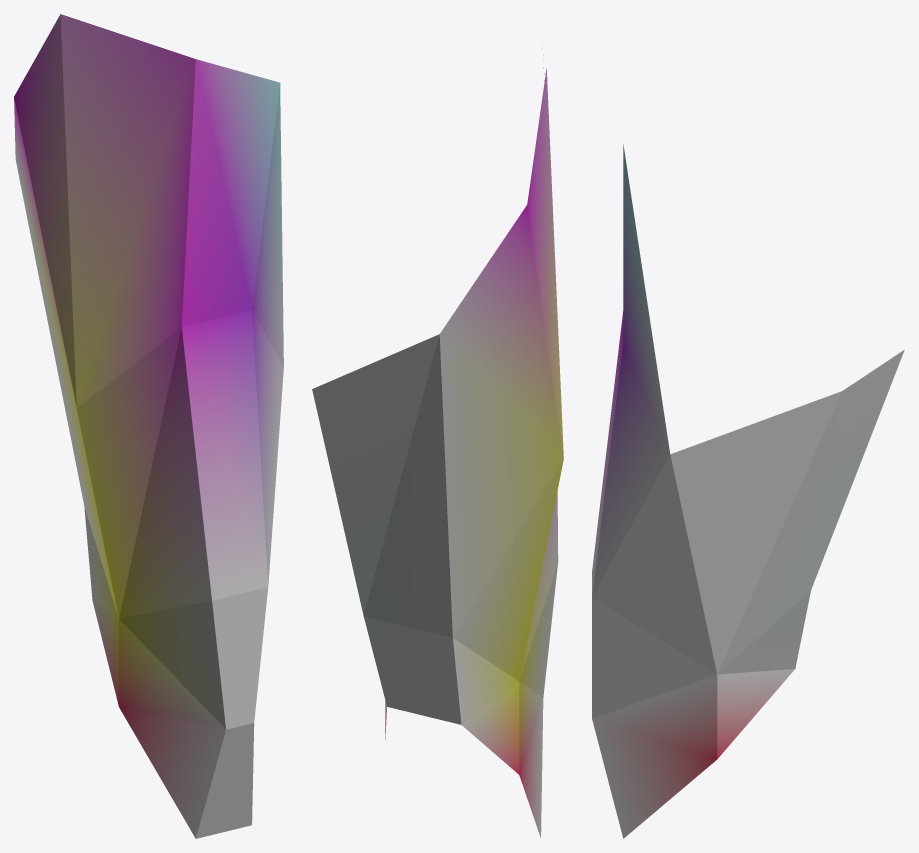
3 renders of one model, left to right at view 1: azimuth 30°, elevation 25°; view 2: azimuth 150°, elevation 25°; view 3: azimuth 270°, elevation 25°, orthographic. The views are drawn at different scales.
Parts seen in each view (by area): view 1: model_1192; view 2: model_1192; view 3: model_1192.
Part boxes in pixels (bbox=[...]): model_1192: bbox=[14, 14, 283, 838]; model_1192: bbox=[312, 48, 563, 837]; model_1192: bbox=[592, 144, 904, 838].
Bounding box in the file's own units: 14 × 54 × 20.
